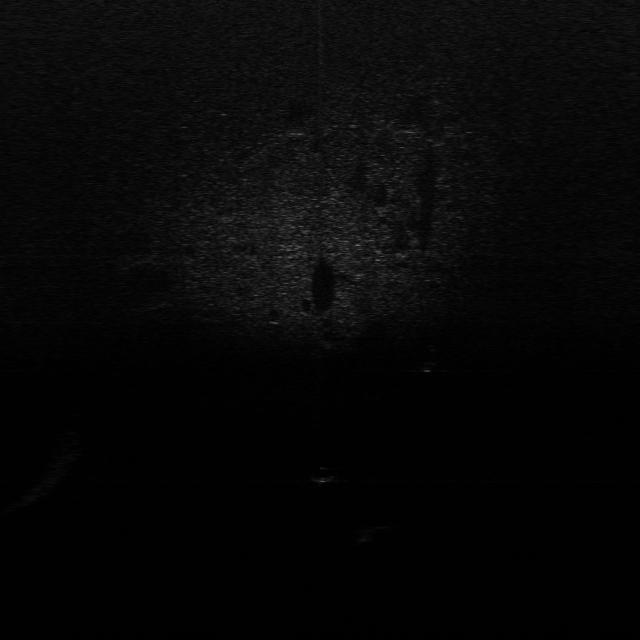ball: (310, 463, 340, 485)
square cage: (346, 522, 396, 546)
tyre: (419, 345, 447, 374)
